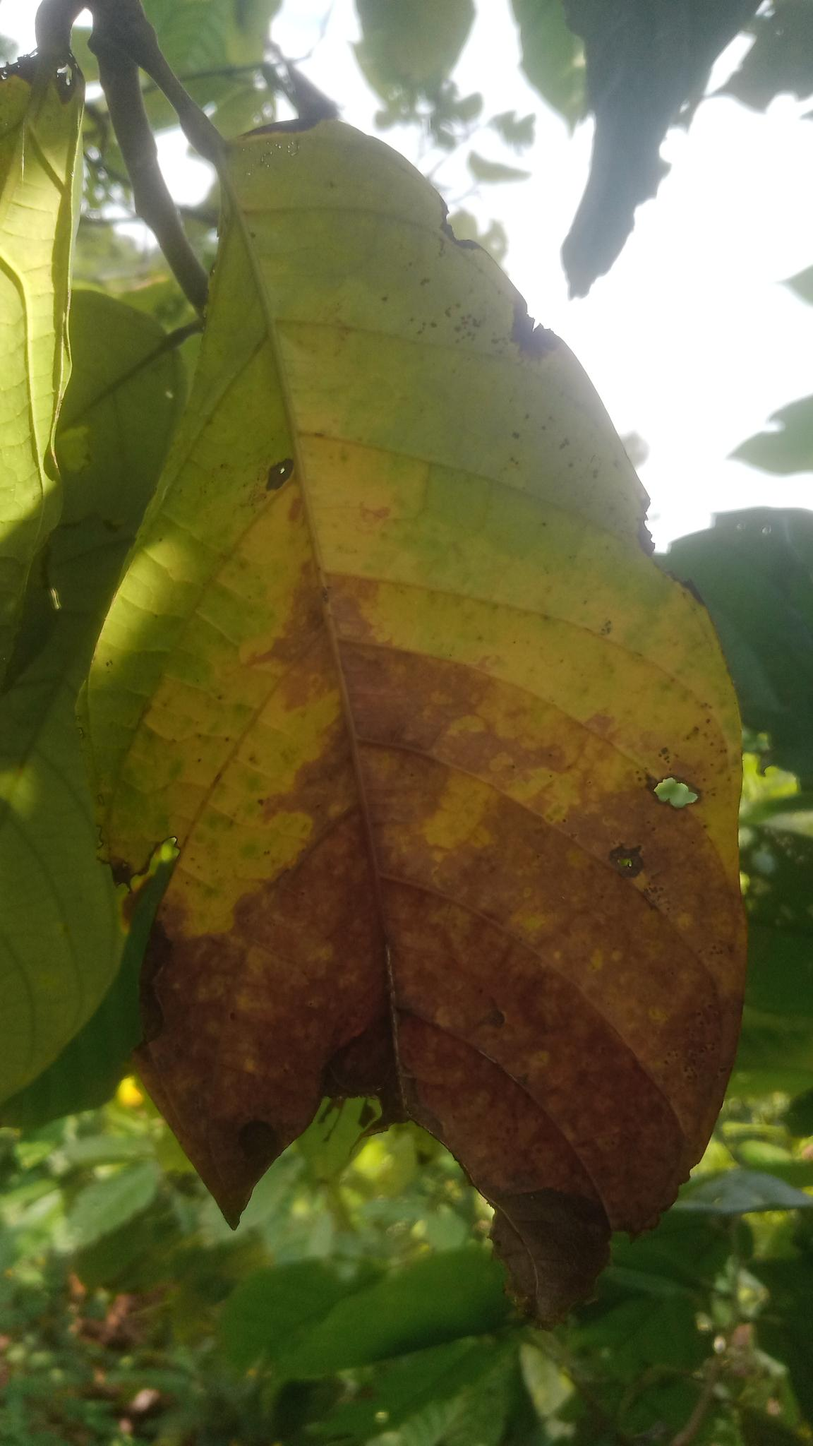Potasio: (45, 121, 730, 1261)
